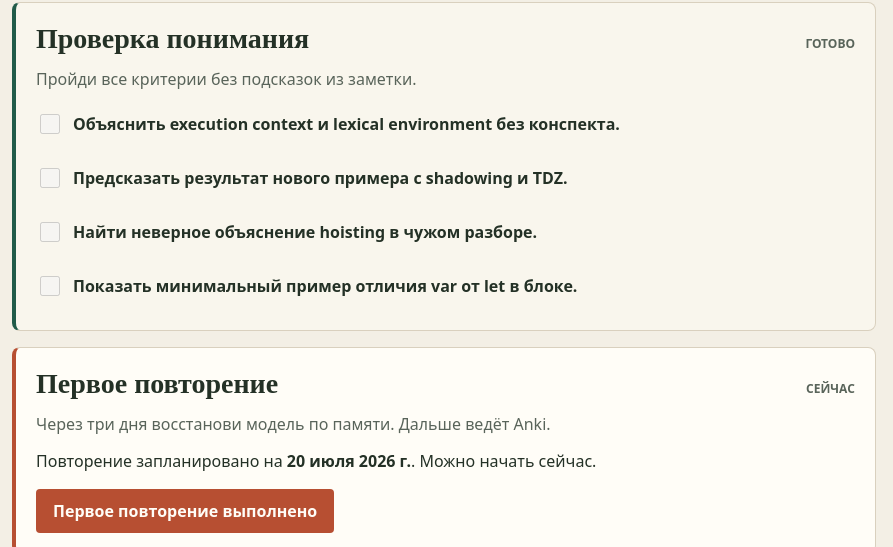
it: TopicPage › marks the topic mastered after a due first review
(page scrolled)
What coordinates should you click on to do the following:
click the button "Первое повторение выполнено"
I would click on:
 (185, 511)
Its box is [36,489,334,533].
(page scrolled)
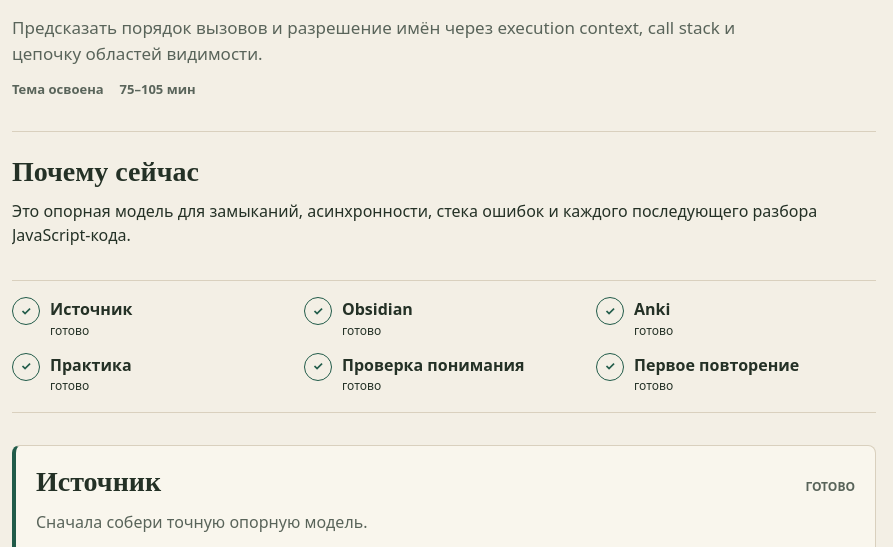
Now the text "Тема освоена" is shown, box [12,79,104,99]
